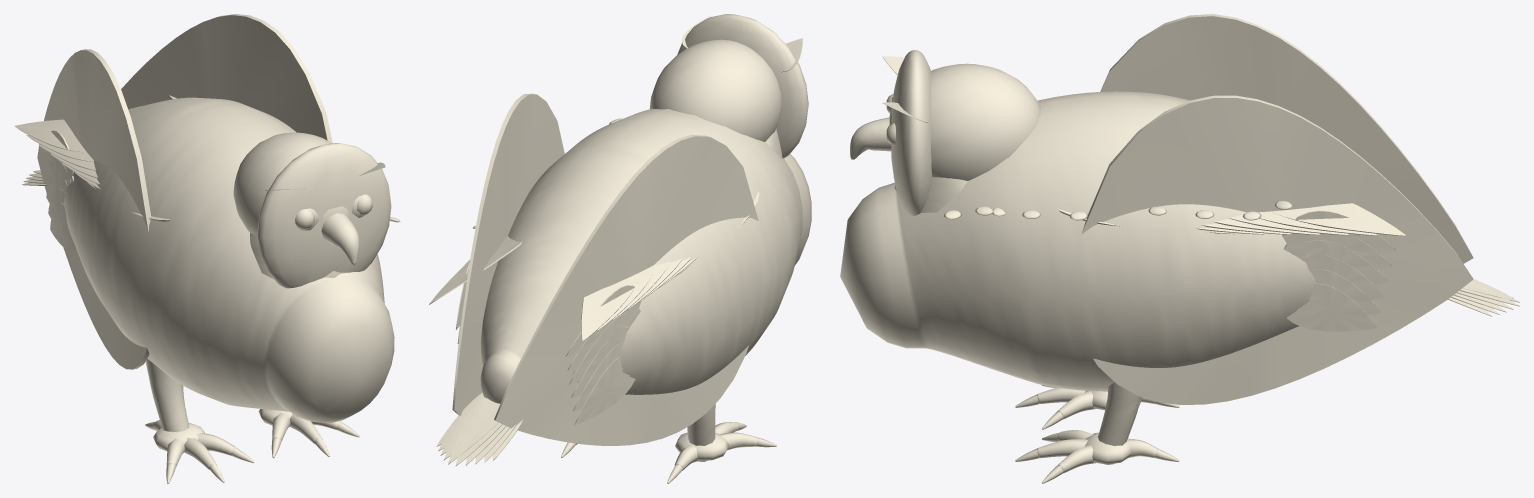
The model's file is owl172_run95_birds-and-reptiles-hd-snowy-owl-257f670d_cream_ONLY_REJECTED.glb.
The picture shows the model from 3 angles, left to right: view 1: azimuth 30°, elevation 25°; view 2: azimuth 150°, elevation 25°; view 3: azimuth 270°, elevation 25°; orthographic projection. The views are drawn at different scales.
Visible parts, largest first — view 1: snowy-owl; view 2: snowy-owl; view 3: snowy-owl.
Boxes of the visible parts, box(x1,y1,x2,y2) form: snowy-owl: box(14, 14, 400, 483); snowy-owl: box(429, 14, 811, 483); snowy-owl: box(840, 14, 1519, 483).
Bounding box in the file's own units: 0.2698 × 0.4324 × 0.7009.
